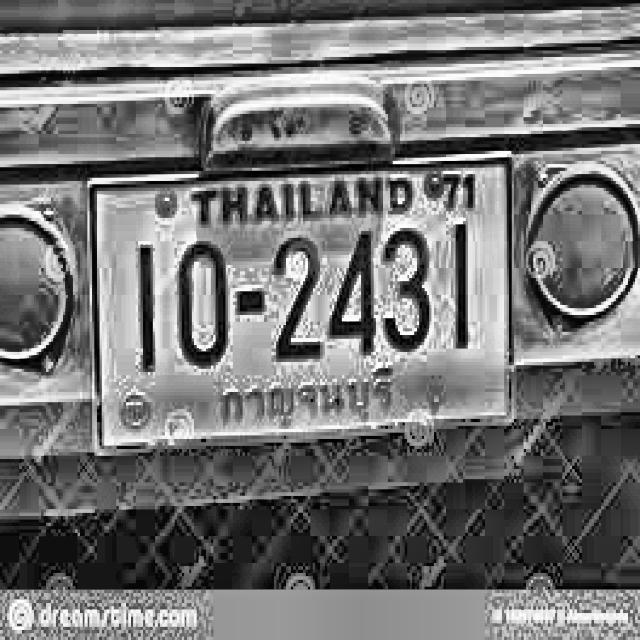license-plate: (71, 123, 539, 477)
